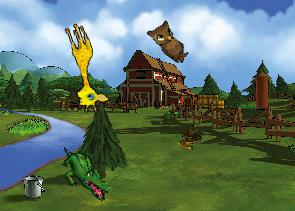crocodile: (50, 145, 119, 202)
giraffe: (53, 20, 111, 115)
owl: (143, 15, 197, 65)
